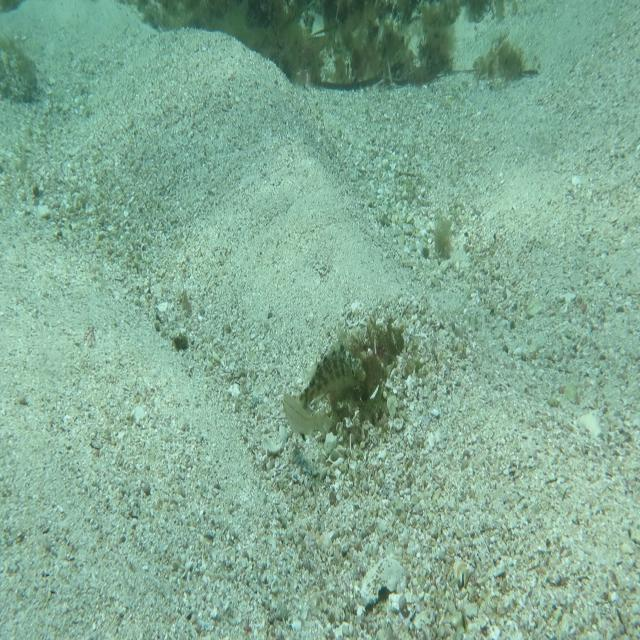BEND: (293, 335, 368, 426)
female: (279, 392, 333, 441)
nest: (306, 311, 404, 449)
vegetation: (133, 0, 490, 33), (235, 34, 440, 86), (430, 211, 456, 266)
